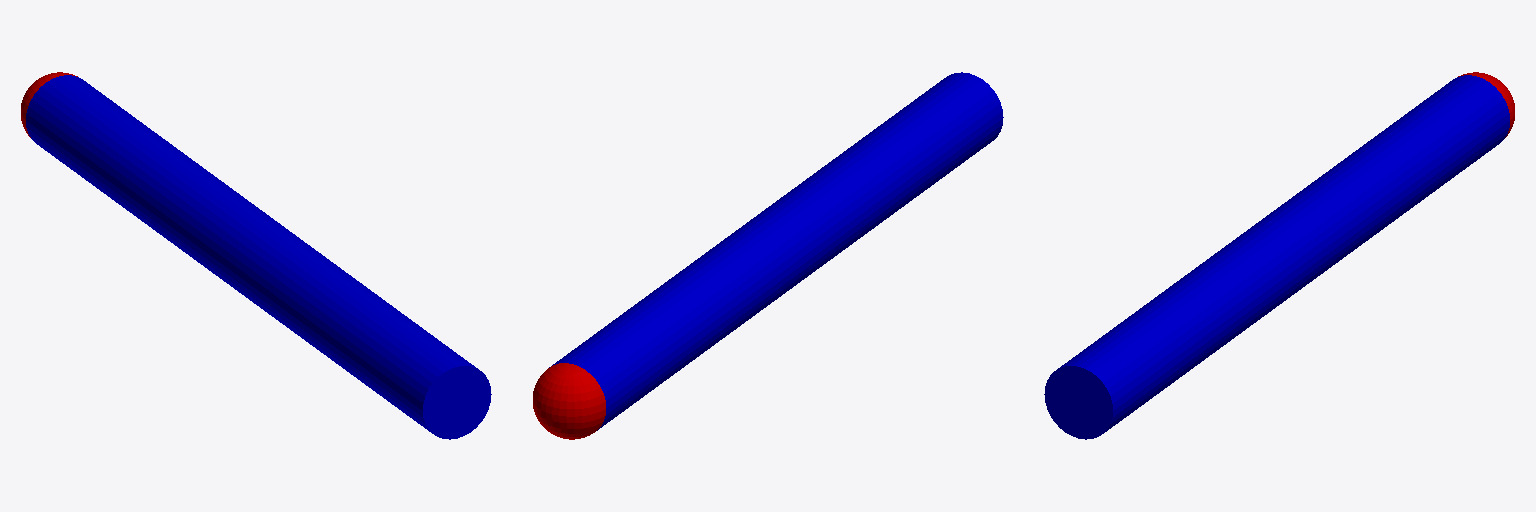
URDF robot description (haptic_pen):
<?xml version="1.0"?>
<robot name="haptic_pen">

  <link name="base_link">
    <inertial>
      <mass value="0.01"/>
      <origin xyz="0 0 0"/>
      <inertia ixx="1e-6" ixy="0" ixz="0" iyy="1e-6" iyz="0" izz="1e-6"/>
    </inertial>

    <visual>
      <origin xyz="0 0 0" rpy="0 1.57079632679 1.57079632679"/>
      <geometry>
        <cylinder length="0.1" radius="0.005"/>
      </geometry>
      <material name="blue">
        <color rgba="0 0 0.8 1"/>
      </material>
    </visual>
  </link>

  <link name="pen_tip_link">
    <inertial>
      <mass value="0.001"/> <origin xyz="0 0 0"/>
      <inertia ixx="1e-7" ixy="0" ixz="0" iyy="1e-7" iyz="0" izz="1e-7"/>
    </inertial>

    <visual>
      <origin xyz="0 0 0" rpy="0 0 0"/>
      <geometry>
        <sphere radius="0.005"/> </geometry>
      <material name="red">
        <color rgba="0.8 0 0 1"/> </material>
    </visual>

    <collision name="pen_tip_collision">
      <origin xyz="0 0 0" rpy="0 0 0"/>
      <geometry>
        <sphere radius="0.005"/>
      </geometry>
    </collision>

    <sensor name='pen_contact_sensor' type='contact'>
      <contact>
        <collision>pen_tip_collision</collision>
      </contact>
      <plugin name="pen_bumper_controller" filename="libgazebo_ros_bumper.so">
        <always_on>1</always_on>
        <update_rate>10.0</update_rate>
        <bumperTopicName>pen_contact_2</bumperTopicName>
        <frameName>pen</frameName>
      </plugin>
    </sensor>
  </link>

  <joint name="pen_tip_joint" type="fixed">
    <parent link="pen_tip_link"/>
    <child link="base_link"/>
    <origin xyz="0 -0.05 0" rpy="0 0 0"/>
  </joint>

</robot>

--- What the picture shows (computed from the rendered views, not written in the file) ---
The picture shows the robot from 3 angles, left to right: view 1: azimuth 30°, elevation 25°; view 2: azimuth 150°, elevation 25°; view 3: azimuth 330°, elevation 25°; orthographic projection.
Robot: haptic_pen — 2 links, 1 joints (1 fixed); root link pen_tip_link; default pose: all joints at 0.
Links seen in each view (by area): view 1: base_link; view 2: base_link, pen_tip_link; view 3: base_link.
Link boxes in pixels (x1=…): base_link: x1=26, y1=75, x2=491, y2=439; base_link: x1=549, y1=72, x2=1003, y2=430; pen_tip_link: x1=533, y1=363, x2=605, y2=439; base_link: x1=1044, y1=75, x2=1509, y2=439.
Size in the robot's own frame: 0.01 by 0.105 by 0.01 metres.
Geometry: primitives only (box / cylinder / sphere), no mesh files.